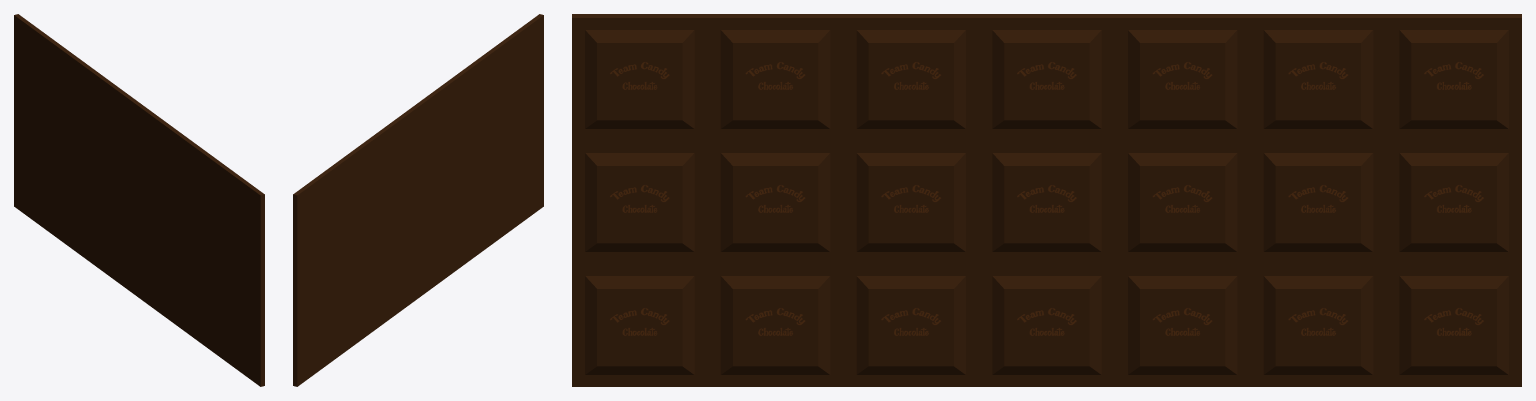
File: NewChocolateBar.fbx
3 views of the same model, side by side, from view 1: azimuth 30°, elevation 25°; view 2: azimuth 150°, elevation 25°; view 3: azimuth 270°, elevation 25° (orthographic). The views are drawn at different scales.
Visible parts, largest first — view 1: Cube.001; view 2: Cube.001; view 3: Cube.001.
Boxes of the visible parts, x1,y1,x2,y2 form: Cube.001: (14,14,264,386); Cube.001: (293,14,543,386); Cube.001: (572,14,1521,386).
Size of the model in its own units: 10.9 by 300 by 700.
